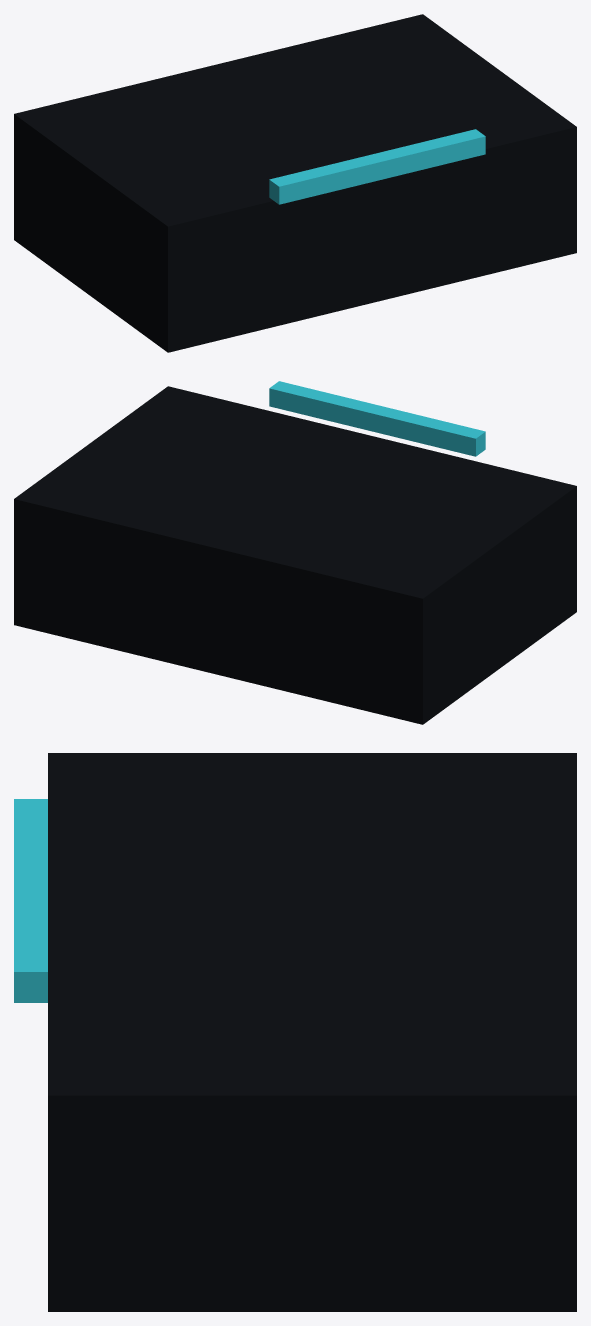
Rendered from pickup.keycard_case.glb.
The picture shows the model from 3 angles, top to bottom: view 1: azimuth 30°, elevation 25°; view 2: azimuth 150°, elevation 25°; view 3: azimuth 270°, elevation 25°; orthographic projection. The views are drawn at different scales.
Visible parts, largest first — view 1: key_case, key_glow; view 2: key_case, key_glow; view 3: key_case, key_glow.
Boxes of the visible parts, box(x1,y1,x2,y2) form: key_case: box(14, 14, 576, 352); key_glow: box(269, 129, 485, 204); key_case: box(14, 386, 576, 724); key_glow: box(269, 381, 485, 456); key_case: box(48, 753, 576, 1311); key_glow: box(14, 799, 47, 1002).
Size of the model in its own units: 0.95 by 0.33 by 0.66.
